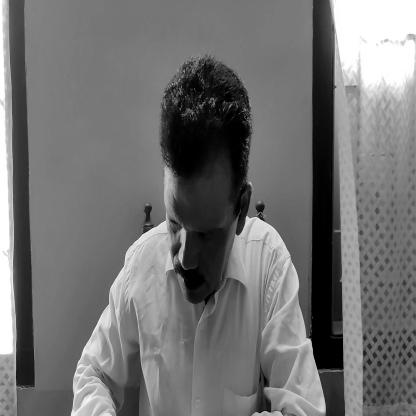Distracted: (159, 62, 249, 309)
